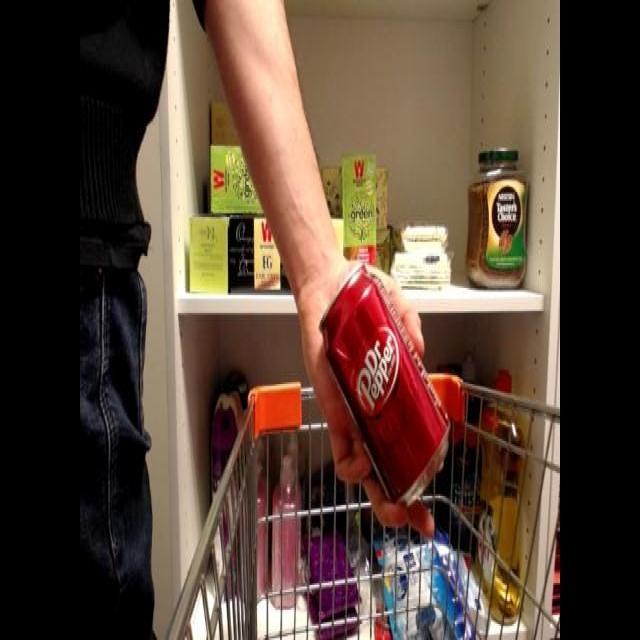Dr Pepper: (316, 254, 465, 505)
